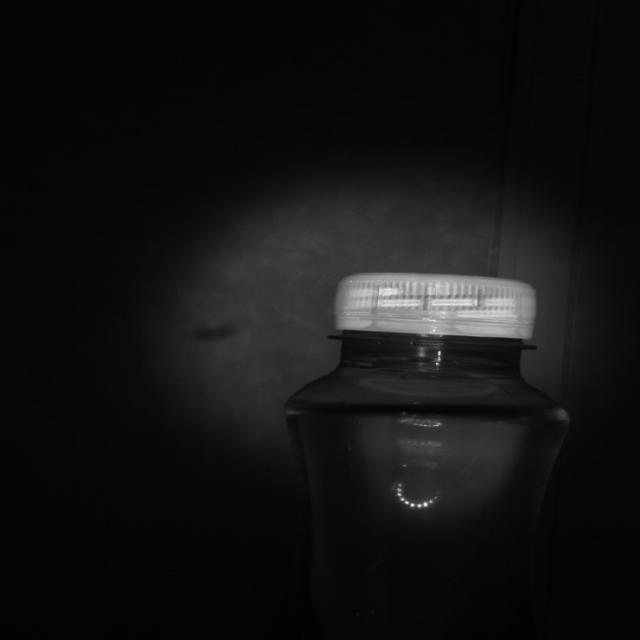Good: (332, 272, 538, 340)
